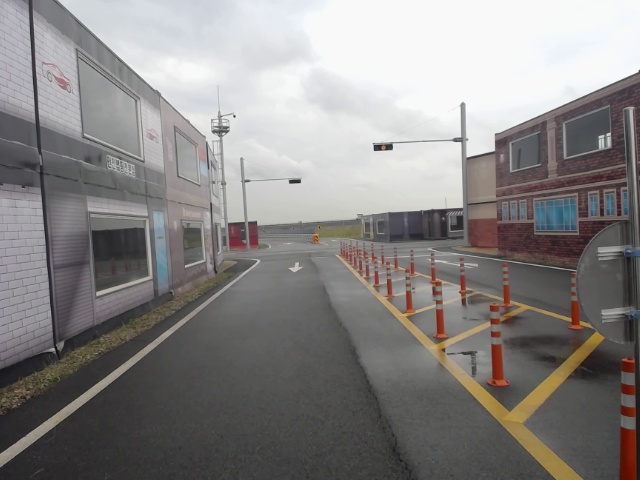orange_3: (372, 142, 395, 152)
